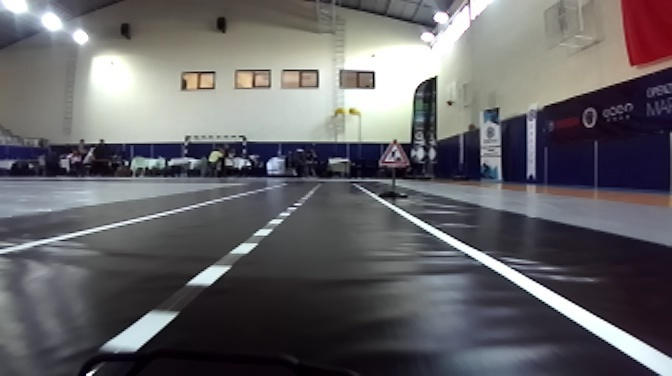yol_yapimi: (377, 134, 413, 171)
